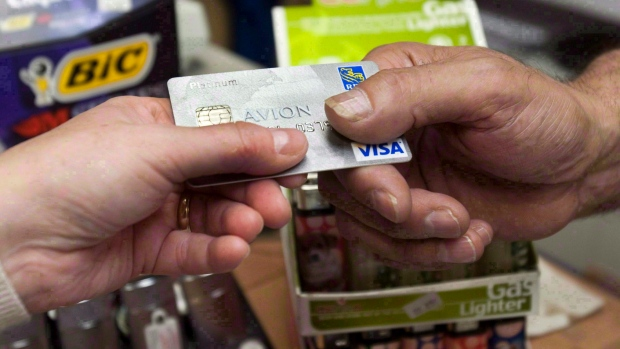tarjeta: (167, 59, 413, 189)
